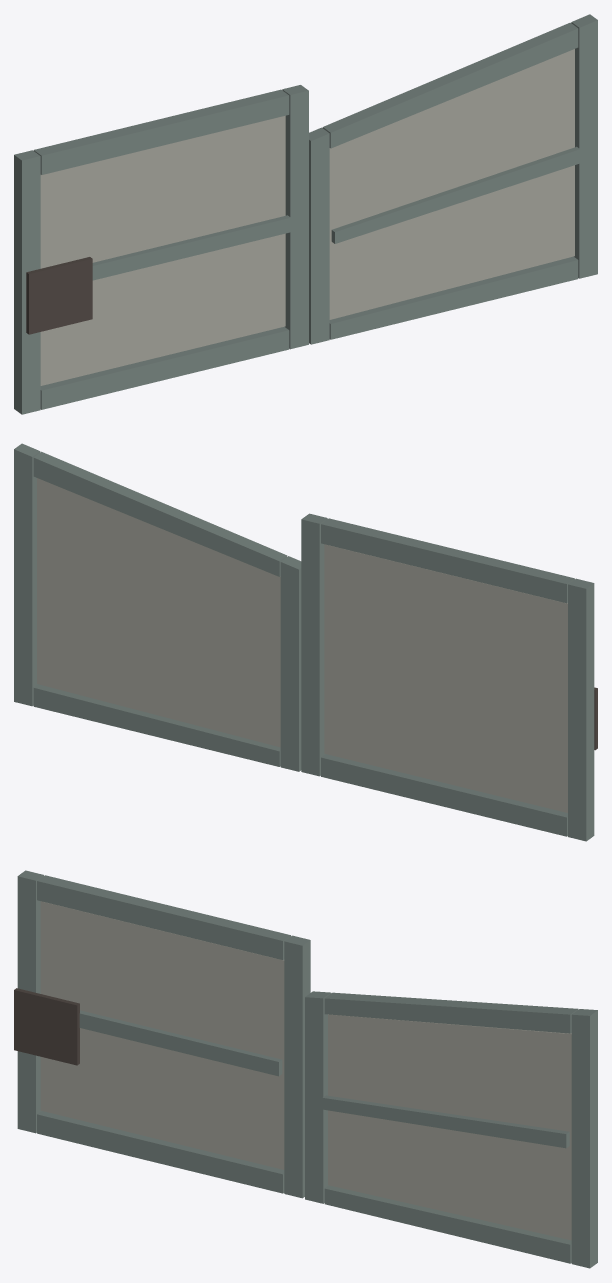
Rendered from SM_PuertaVia_v1_ChapaOndulada_e1_Danado_LOD1.fbx.
The picture shows the model from 3 angles, top to bottom: view 1: azimuth 30°, elevation 25°; view 2: azimuth 150°, elevation 25°; view 3: azimuth 330°, elevation 25°; orthographic projection.
Parts seen in each view (by area): view 1: Hoja_O, Hoja_E; view 2: Hoja_O, Hoja_E; view 3: Hoja_O, Hoja_E.
Boxes of the visible parts, x1,y1,x2,y2 form: Hoja_O: (14,85,308,414); Hoja_E: (309,14,597,344); Hoja_O: (301,513,597,841); Hoja_E: (14,443,301,771); Hoja_O: (14,870,310,1198); Hoja_E: (305,991,597,1268).
Size of what is drawn, in the model's own units: 4.98 by 2.1 by 0.2.
